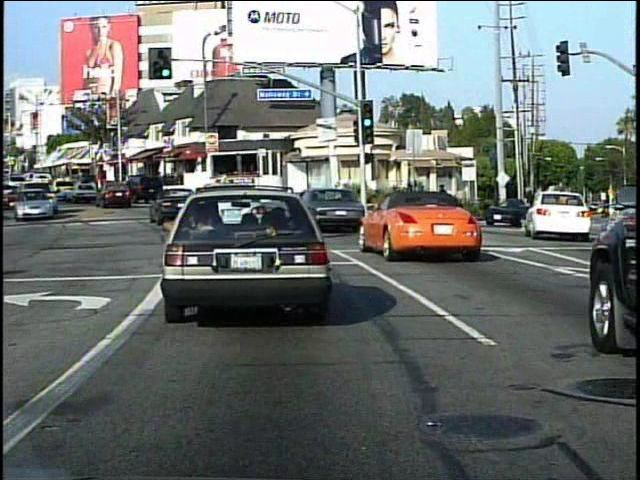person: (434, 183, 451, 222)
